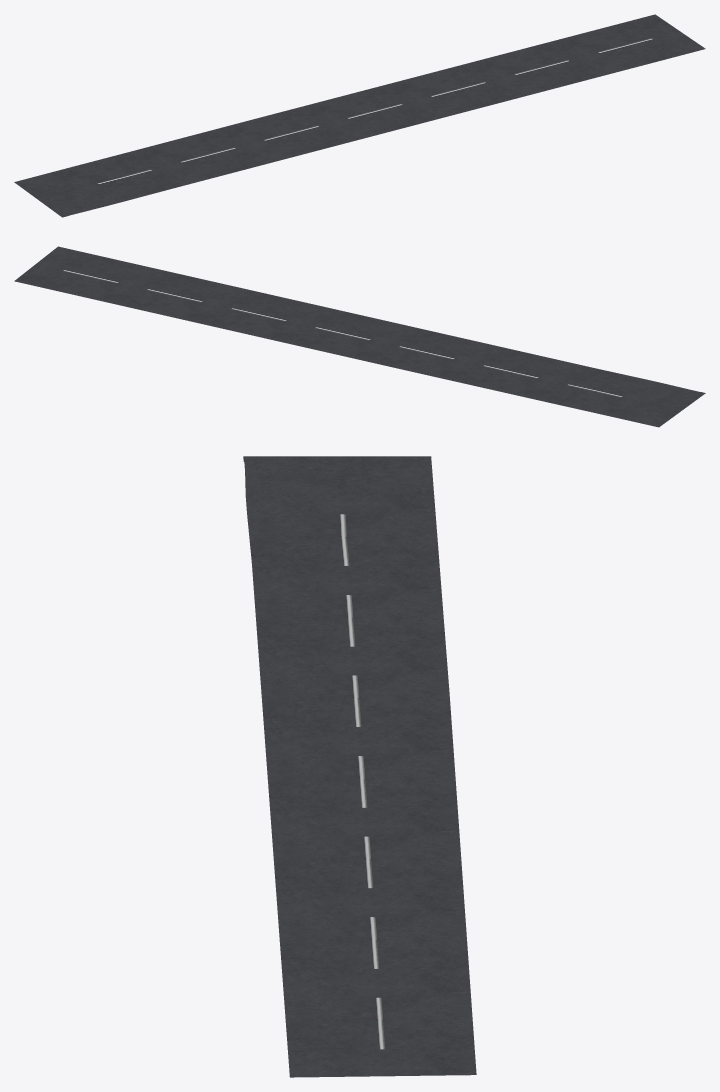
3 views of the same model, one above another, from view 1: azimuth 30°, elevation 25°; view 2: azimuth 150°, elevation 25°; view 3: azimuth 270°, elevation 25° (orthographic). The views are drawn at different scales.
Visible parts, largest first — view 1: Asphalt_01__1_; view 2: Asphalt_01__1_; view 3: Asphalt_01__1_.
Part boxes in pixels (<box>): Asphalt_01__1_: <box>14,14,705,217</box>; Asphalt_01__1_: <box>14,246,705,427</box>; Asphalt_01__1_: <box>243,456,476,1077</box>.
Bounding box in the file's own units: 8290 × 1.05 × 1316.
